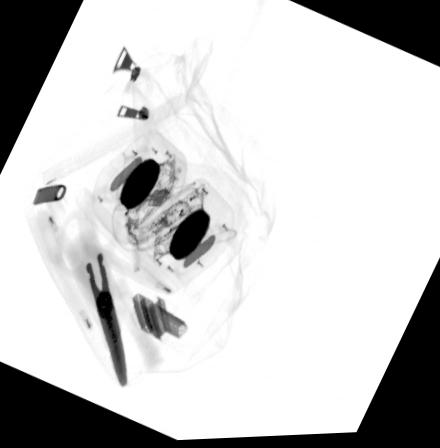Scissors: (43, 197, 127, 388)
